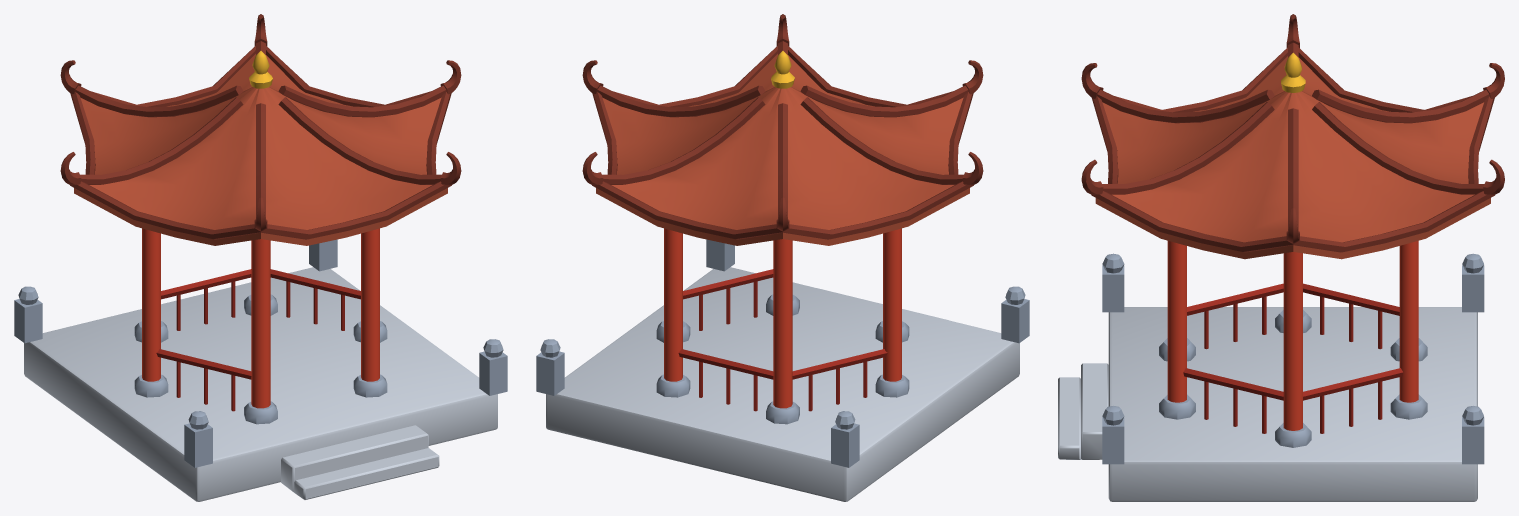
The model's file is pavilion_titop.glb.
3 views of the same model, side by side, from view 1: azimuth 30°, elevation 25°; view 2: azimuth 150°, elevation 25°; view 3: azimuth 270°, elevation 25° (orthographic). The views are drawn at different scales.
Visible parts, largest first — view 1: pavilion_titop; view 2: pavilion_titop; view 3: pavilion_titop.
Part boxes in pixels (bbox=[...]): pavilion_titop: bbox=[14, 14, 507, 501]; pavilion_titop: bbox=[536, 14, 1029, 501]; pavilion_titop: bbox=[1058, 14, 1504, 501].
Bounding box in the file's own units: 5.3 × 4.46 × 4.84.
